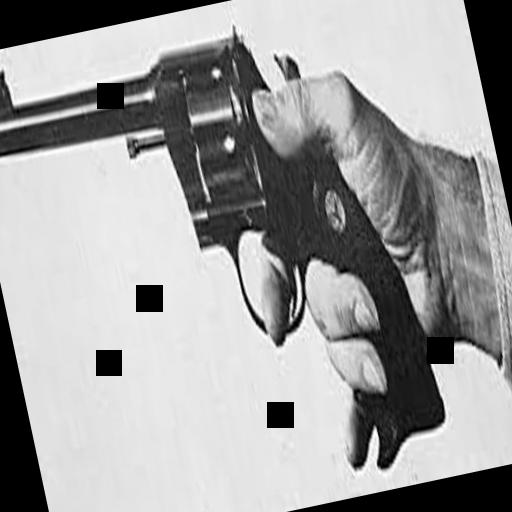Handgun: (0, 0, 453, 512)
